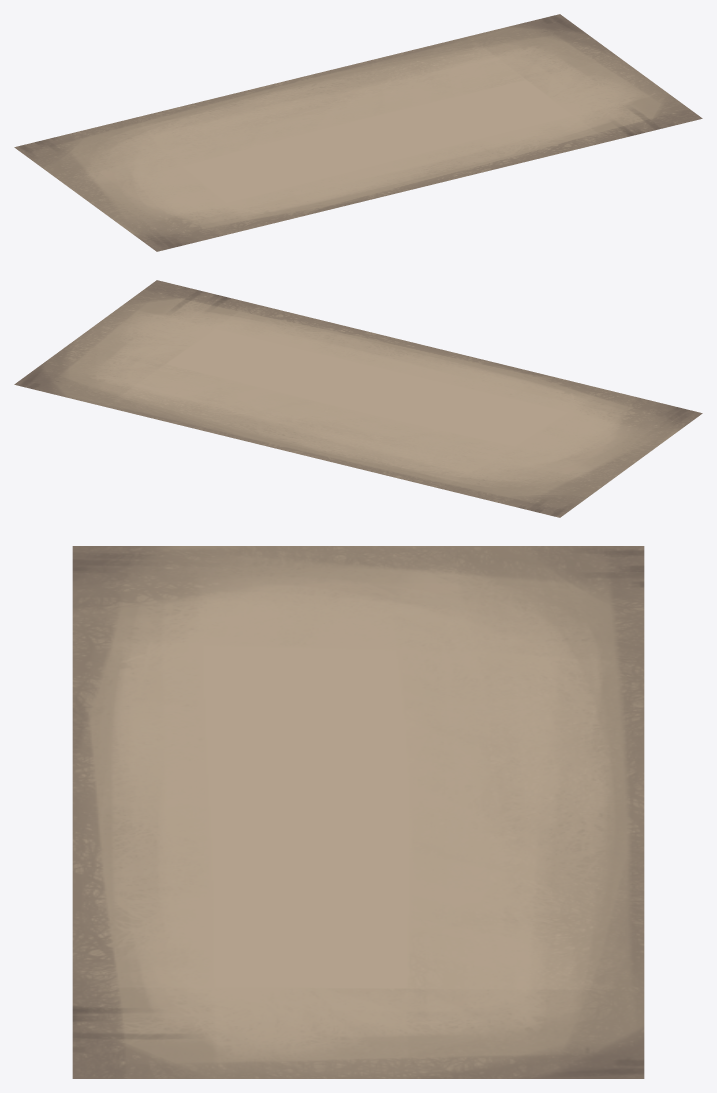
The model's file is Ceiling.fbx.
3 renders of one model, top to bottom at view 1: azimuth 30°, elevation 25°; view 2: azimuth 150°, elevation 25°; view 3: azimuth 270°, elevation 25°, orthographic. The views are drawn at different scales.
Visible parts, largest first — view 1: pasted__polySurface129; view 2: pasted__polySurface129; view 3: pasted__polySurface129.
Part boxes in pixels (x1=…): pasted__polySurface129: x1=14, y1=14, x2=702, y2=251; pasted__polySurface129: x1=14, y1=280, x2=702, y2=517; pasted__polySurface129: x1=72, y1=546, x2=644, y2=1078.
Size of the model in its own units: 31.32 by 1.74e-06 by 14.2.
1 material, 1 textured.
